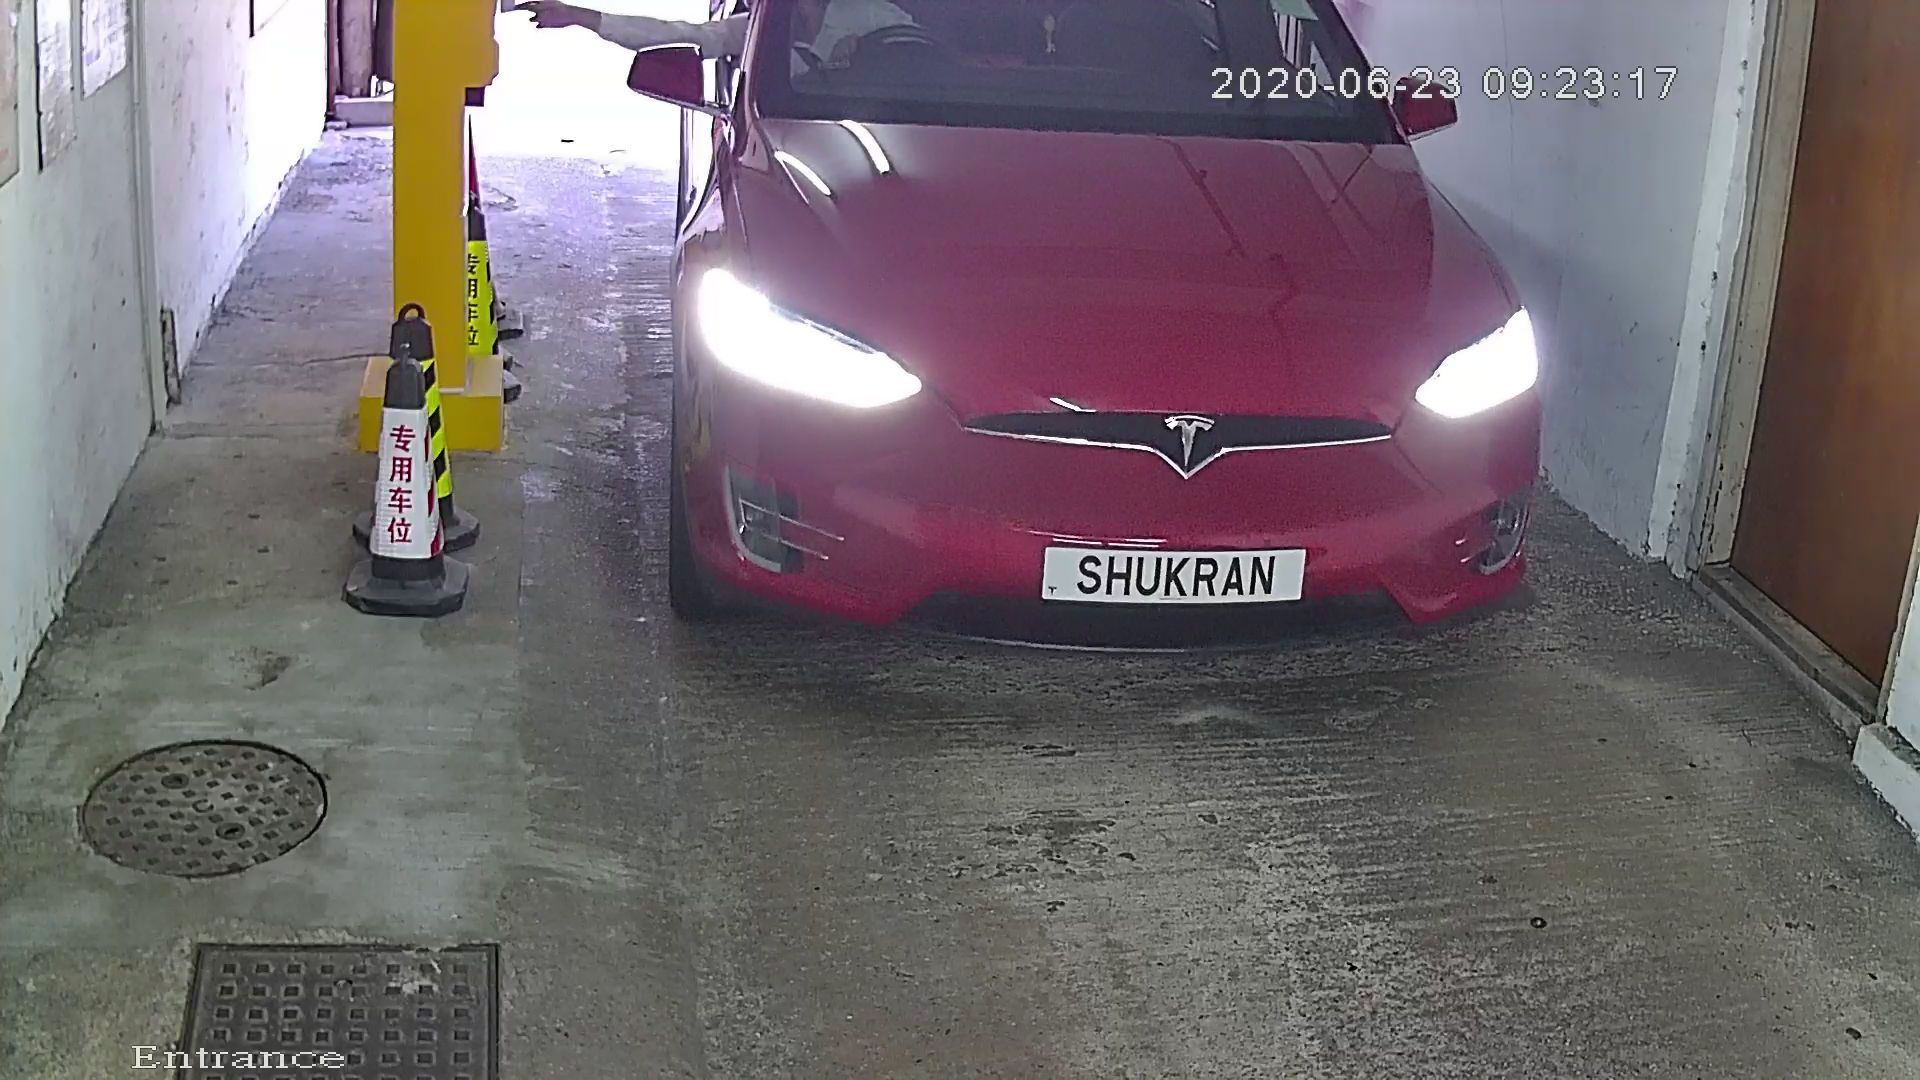privatecar: (605, 3, 1619, 713)
